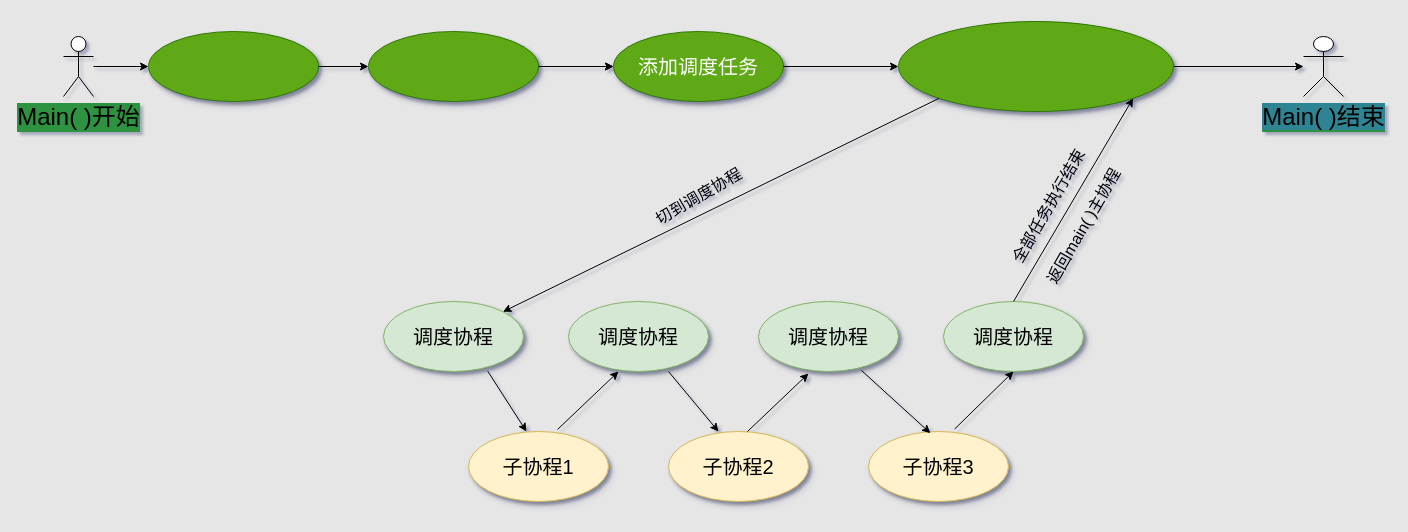
Some shapes in this 1408 by 532 pixel diagram are drawn without their labels. The shapes that lost their labels are listed below. From the top down, each one's centre as x and y in pixels, then its label:
At pixel 234 67: "创建调度器".
At pixel 454 67: "开始调度 （Do Nothing）".
At pixel 1037 67: "停止调度 （等待调度线程退出）".
